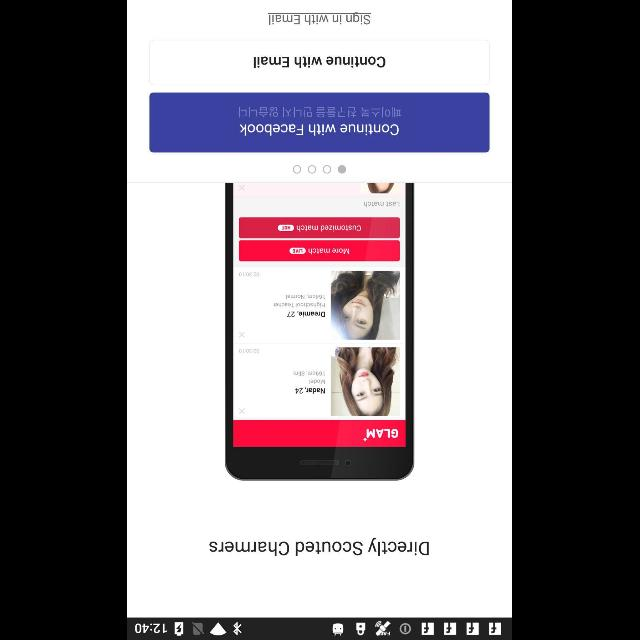image: (226, 183, 414, 481)
pageindicator: (293, 164, 347, 173)
text: (210, 538, 430, 556), (268, 12, 372, 26)
textbutton: (150, 93, 490, 153), (150, 40, 490, 86)
uppertaskbar: (128, 617, 512, 639)
